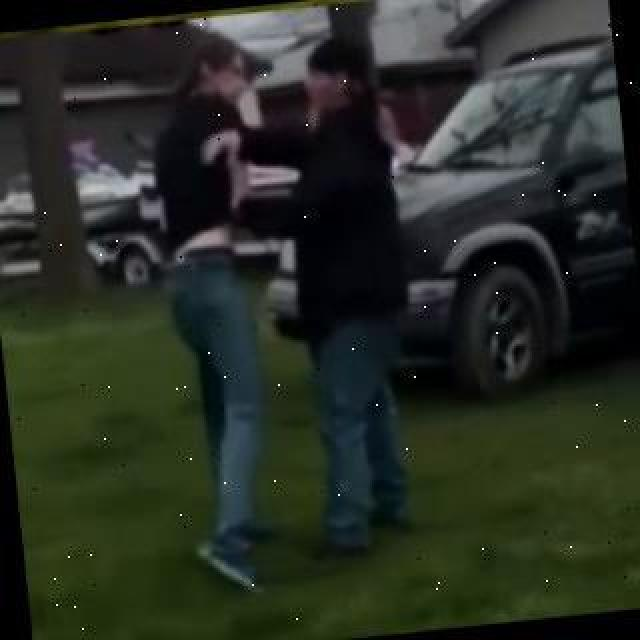fight: (134, 18, 454, 600)
